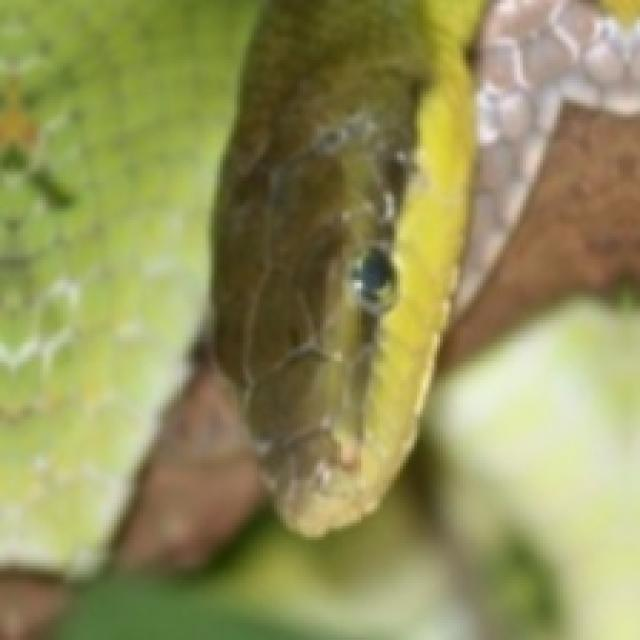red-tailed green ratsnake: (0, 1, 253, 572), (215, 0, 476, 531), (458, 0, 640, 316)
